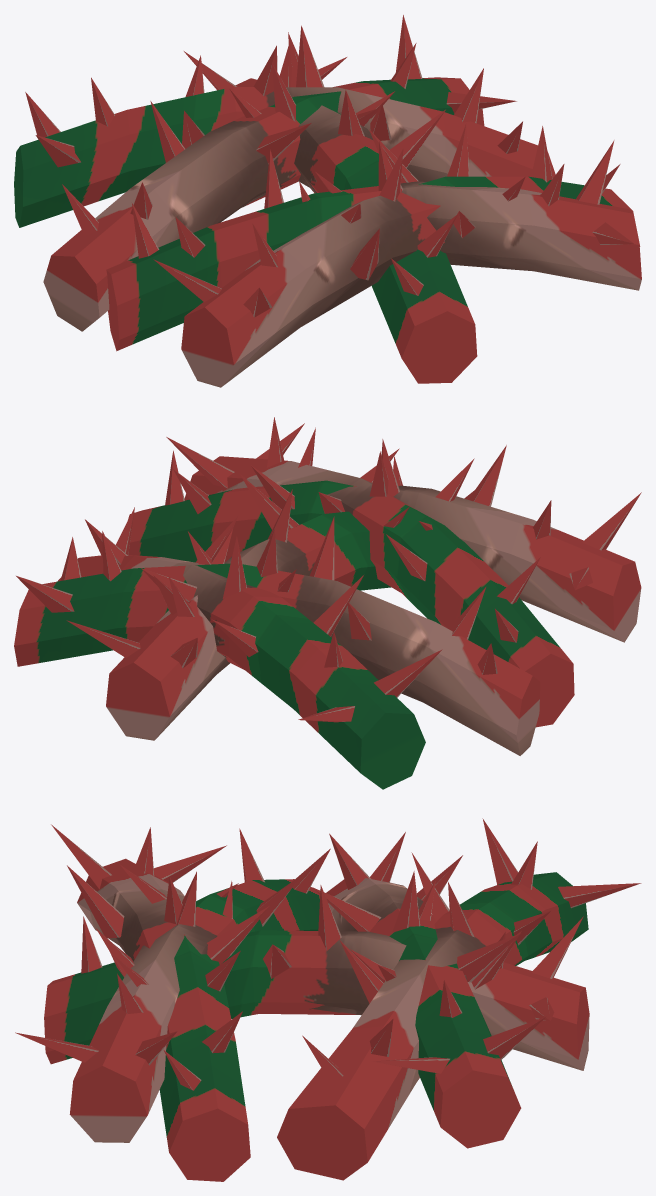
File: spyne_vine.gltf
3 views of the same model, one above another, from view 1: azimuth 30°, elevation 25°; view 2: azimuth 150°, elevation 25°; view 3: azimuth 270°, elevation 25° (orthographic). The views are drawn at different scales.
Visible parts, largest first — view 1: spyne_vine; view 2: spyne_vine; view 3: spyne_vine.
Part boxes in pixels (x1,y1,x2,y2): spyne_vine: (14, 15, 641, 387); spyne_vine: (14, 417, 641, 789); spyne_vine: (15, 818, 641, 1181).
Bounding box in the file's own units: 2.11 × 0.7911 × 2.33.
Materials: 1 (1 with a texture image).
